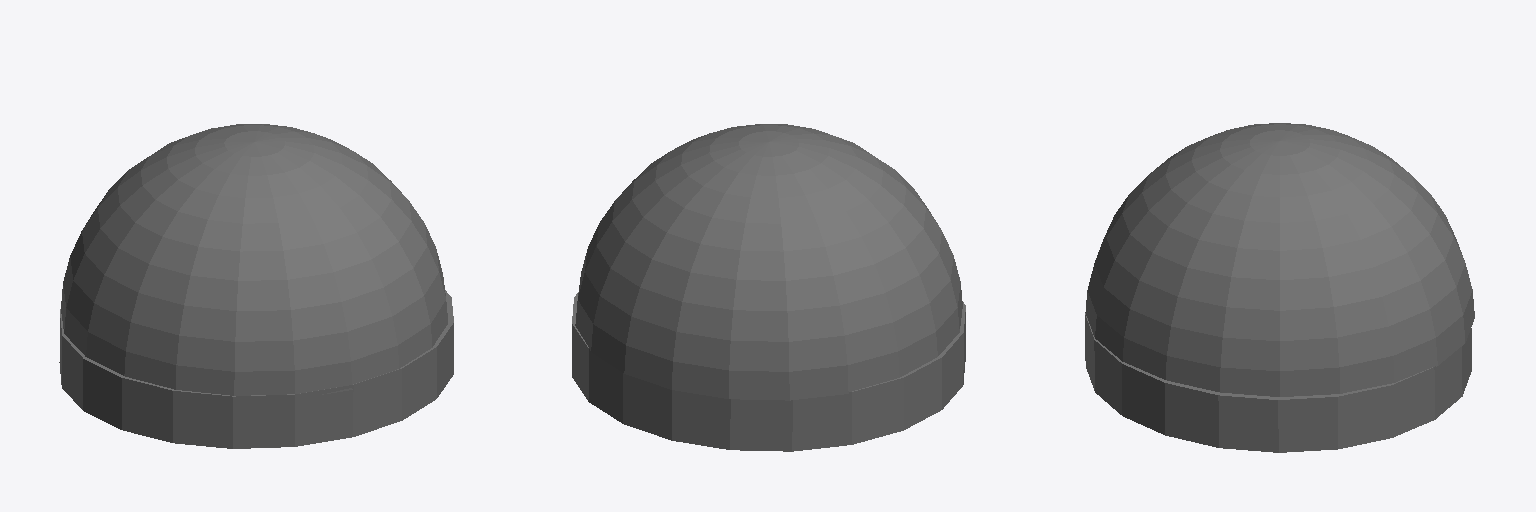
The model's file is dispensadorArriba.obj.
3 renders of one model, left to right at view 1: azimuth 30°, elevation 25°; view 2: azimuth 150°, elevation 25°; view 3: azimuth 270°, elevation 25°, orthographic.
Visible parts, largest first — view 1: pSphere1, pCylinder2; view 2: pSphere1, pCylinder2; view 3: pSphere1, pCylinder2.
Part boxes in pixels (x1,y1,x2,y2): pSphere1: (61, 124, 447, 395); pCylinder2: (59, 290, 453, 448); pSphere1: (575, 124, 962, 400); pCylinder2: (572, 292, 965, 451); pSphere1: (1085, 123, 1474, 396); pCylinder2: (1085, 313, 1471, 452).
Bounding box in the file's own units: 1.59 × 1 × 1.55.